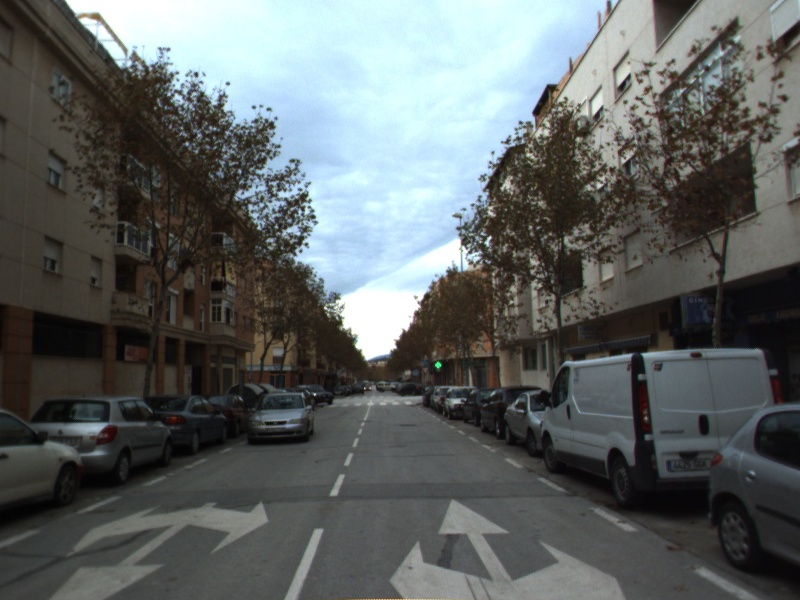STRAIGHT_LEFT_RIGHT: (387, 495, 627, 600)
